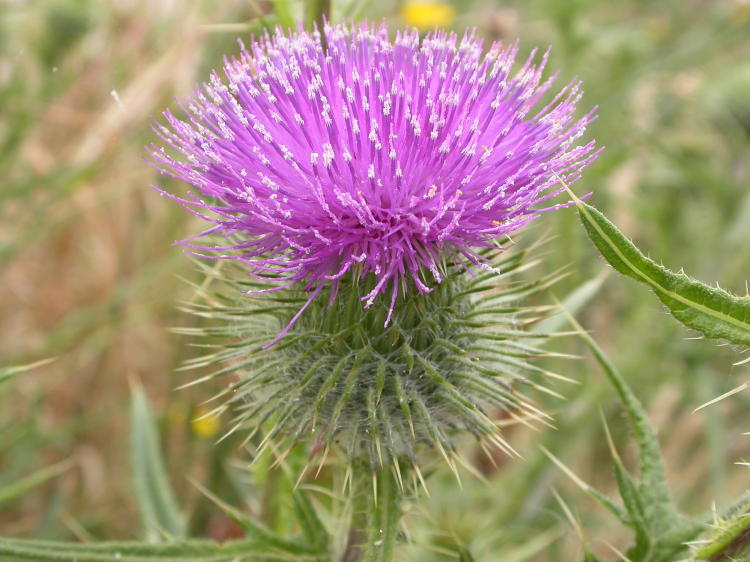thistle: (133, 24, 596, 472)
